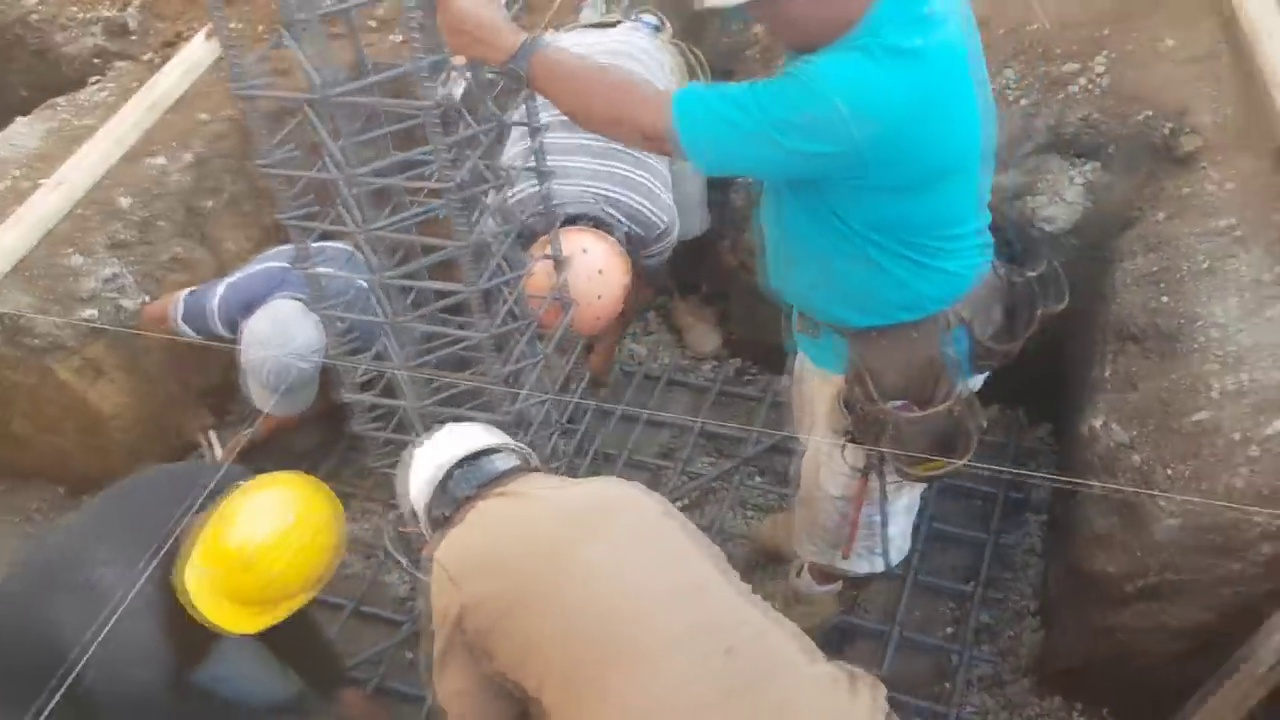helmet: (182, 473, 350, 638), (400, 417, 530, 548), (523, 232, 631, 341)
helmet-off: (231, 299, 332, 426)
helmet-on: (157, 470, 355, 635), (518, 203, 649, 348)
person: (446, 0, 1022, 622), (396, 422, 907, 720), (488, 0, 718, 375), (10, 483, 354, 720), (139, 235, 394, 462)
